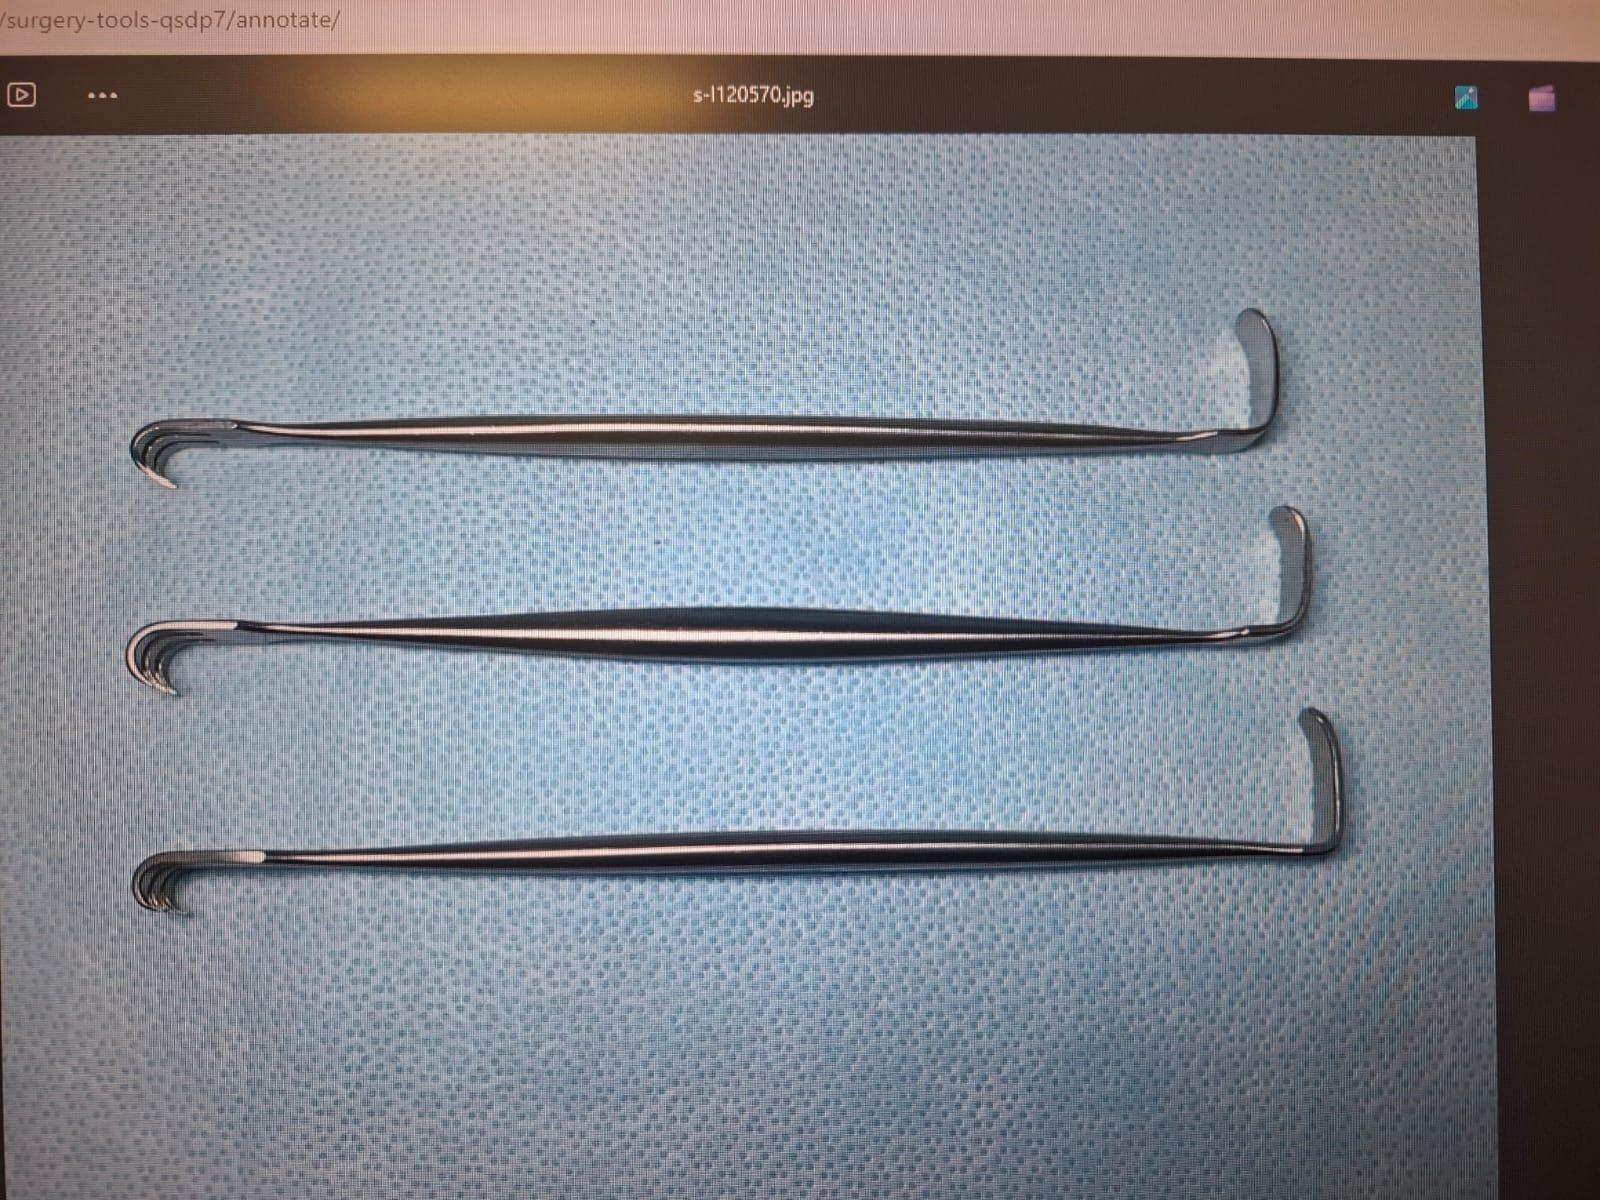Senn Retractor: (122, 500, 1328, 736), (120, 287, 1290, 526), (129, 708, 1362, 934)
